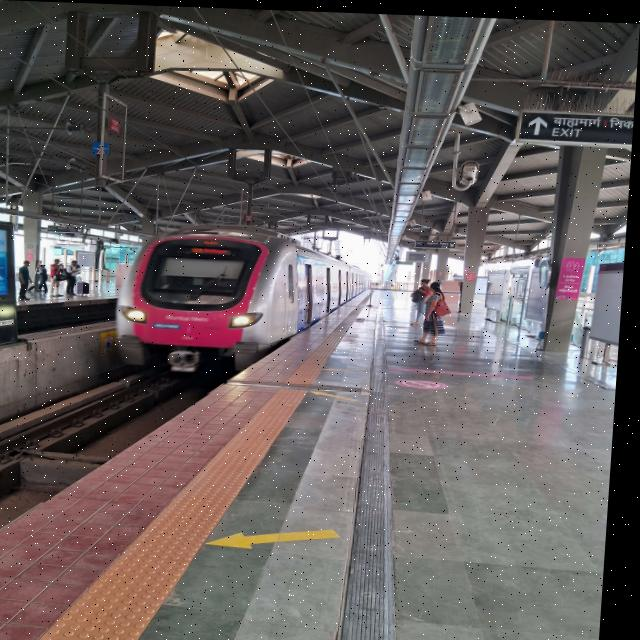train: (106, 208, 384, 385)
